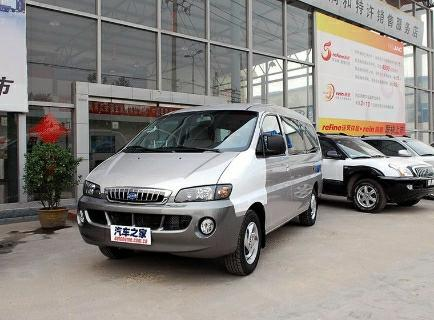car: (71, 99, 322, 282), (320, 127, 434, 211)
